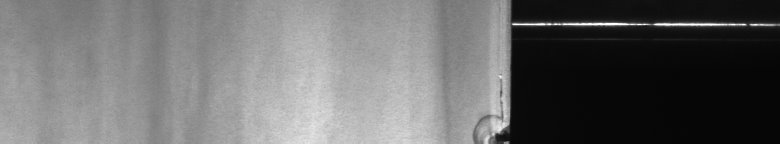hb: (466, 101, 500, 136)
